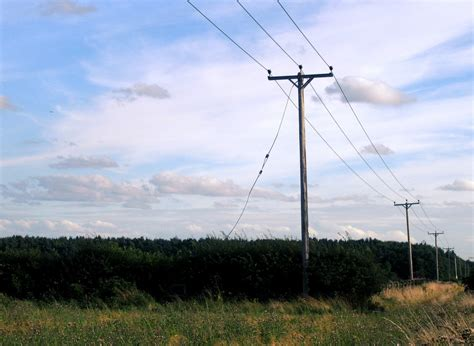pole: (267, 55, 343, 287)
